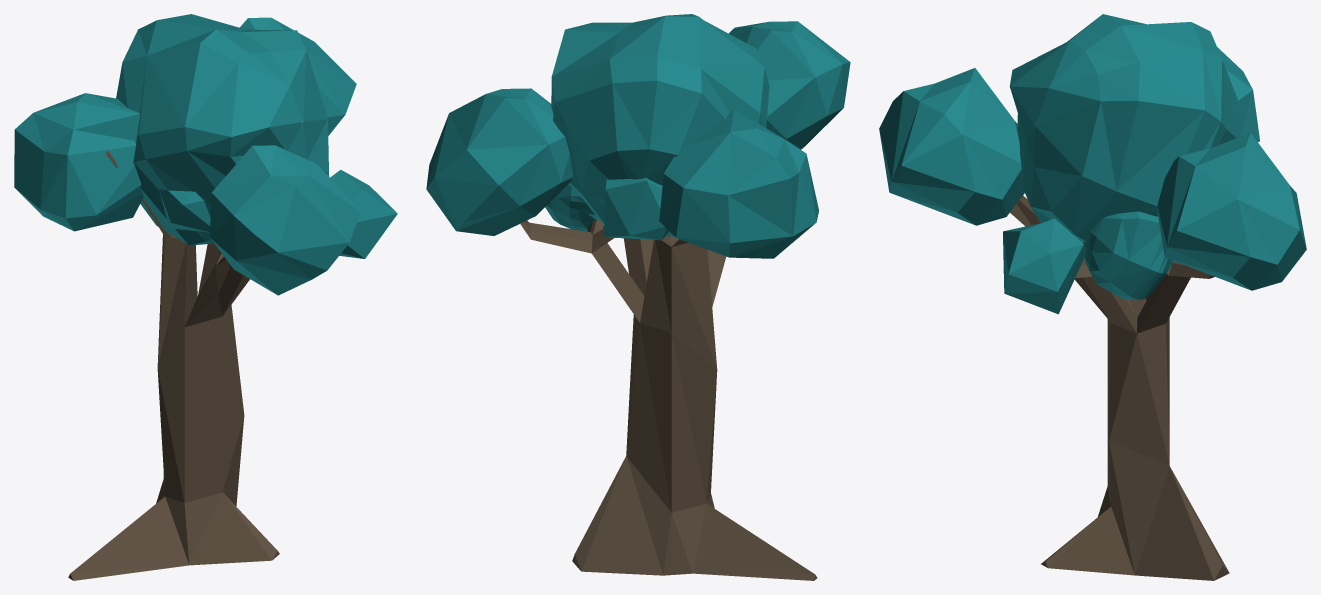
Rendered from Tree3.fbx.
The picture shows the model from 3 angles, left to right: view 1: azimuth 30°, elevation 25°; view 2: azimuth 150°, elevation 25°; view 3: azimuth 270°, elevation 25°; orthographic projection. The views are drawn at different scales.
Parts seen in each view (by area): view 1: Tree3; view 2: Tree3; view 3: Tree3.
Part boxes in pixels (x1,y1,x2,y2): Tree3: [14, 14, 397, 580]; Tree3: [426, 14, 850, 580]; Tree3: [879, 14, 1306, 580].
Size of the model in its own units: 229 by 341 by 246.
